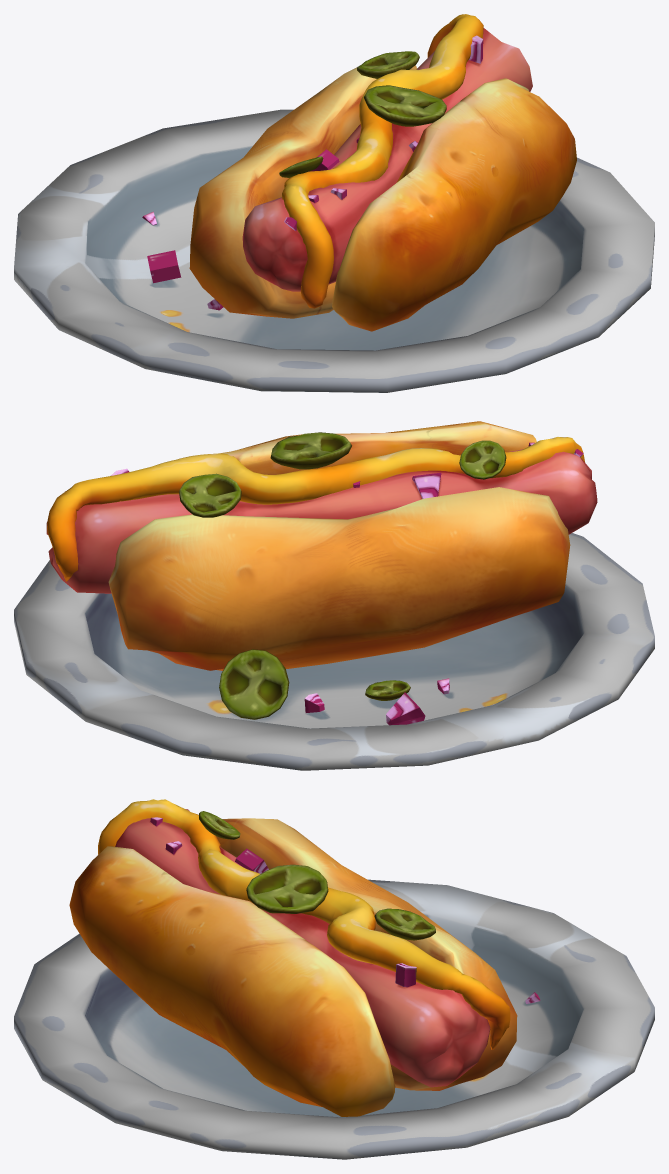
The model's file is tutorial2.fbx.
3 renders of one model, top to bottom at view 1: azimuth 30°, elevation 25°; view 2: azimuth 150°, elevation 25°; view 3: azimuth 270°, elevation 25°, orthographic.
Parts seen in each view (by area): view 1: Cylinder; view 2: Cylinder; view 3: Cylinder.
Boxes of the visible parts, x1,y1,x2,y2 form: Cylinder: [14, 14, 654, 392]; Cylinder: [14, 421, 654, 770]; Cylinder: [14, 799, 654, 1159].
Bounding box in the file's own units: 273 × 93.52 × 273.
